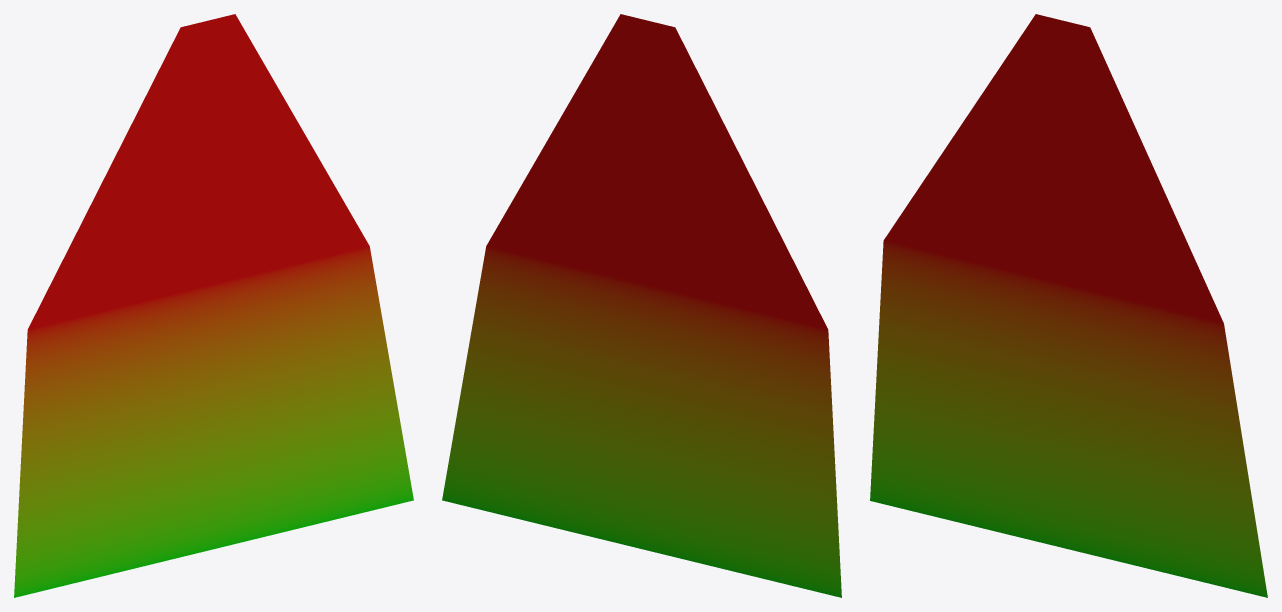
File: Var1_LOD4.fbx
The picture shows the model from 3 angles, left to right: view 1: azimuth 30°, elevation 25°; view 2: azimuth 150°, elevation 25°; view 3: azimuth 330°, elevation 25°; orthographic projection.
Parts seen in each view (by area): view 1: _5928_Var1_LOD4; view 2: _5928_Var1_LOD4; view 3: _5928_Var1_LOD4.
Part boxes in pixels (x1=…): _5928_Var1_LOD4: x1=14, y1=14, x2=413, y2=597; _5928_Var1_LOD4: x1=442, y1=14, x2=841, y2=597; _5928_Var1_LOD4: x1=870, y1=14, x2=1267, y2=597.
Size of the model in its own units: 44.6 by 56.47 by 8.55e-06.
